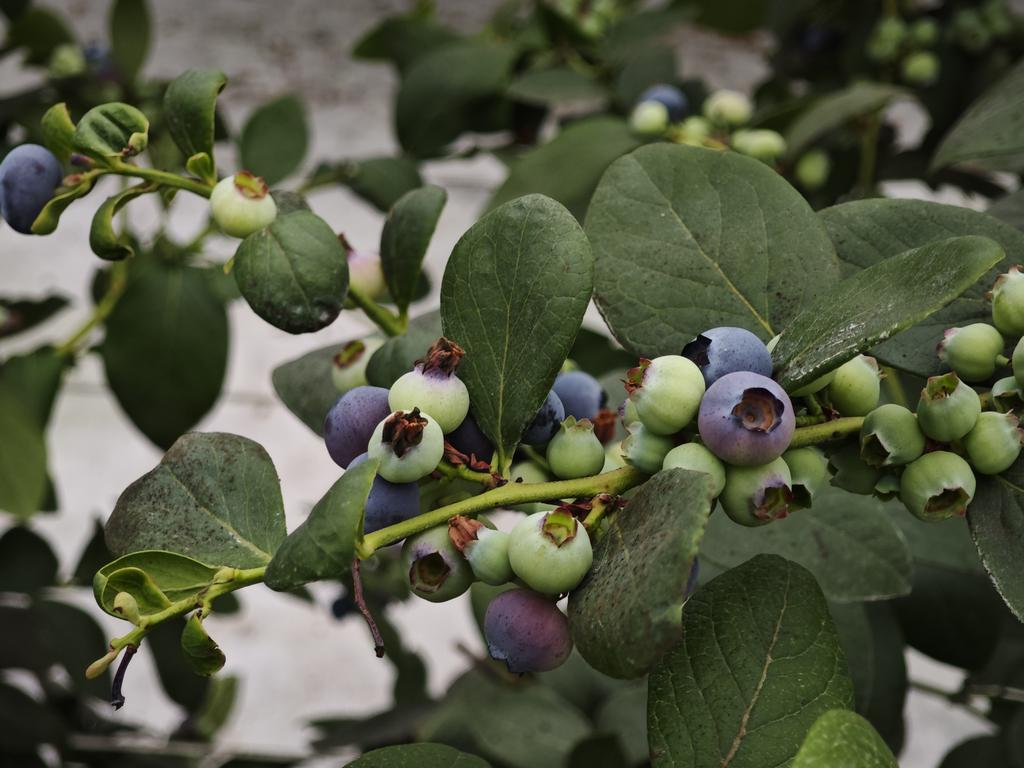RipeBlueBerry: (311, 383, 404, 461), (681, 324, 802, 382)
Semi-RipeBlueBerry: (480, 583, 591, 684), (697, 378, 812, 467)
UnripeBlueBerry: (507, 492, 602, 594), (383, 331, 479, 427), (901, 447, 991, 546), (197, 172, 302, 238)
